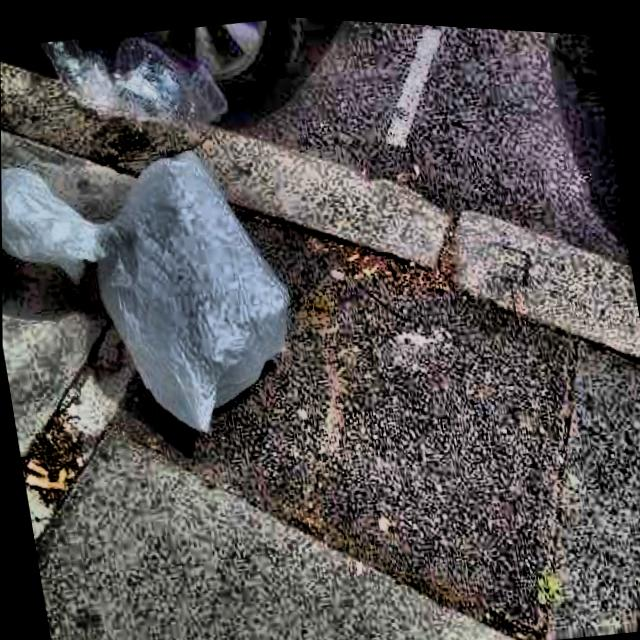Plastic: (0, 76, 324, 476)
